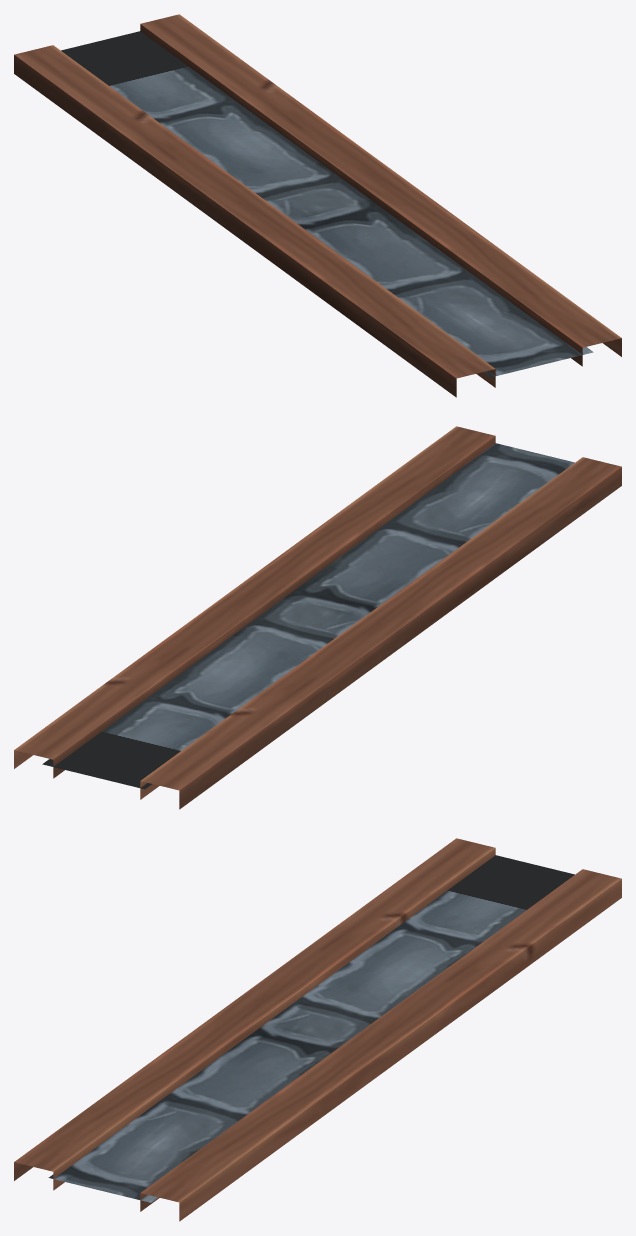
Rendered from floor_downside.fbx.
3 renders of one model, top to bottom at view 1: azimuth 30°, elevation 25°; view 2: azimuth 150°, elevation 25°; view 3: azimuth 330°, elevation 25°, orthographic.
Visible parts, largest first — view 1: floor_downside:Mesh; view 2: floor_downside:Mesh; view 3: floor_downside:Mesh.
Part boxes in pixels (x1,y1,x2,y2): floor_downside:Mesh: (14, 14, 621, 397); floor_downside:Mesh: (14, 426, 621, 809); floor_downside:Mesh: (14, 838, 621, 1221).
Size of the model in its own units: 0.7017 by 0.0776 by 3.25.
Materials: 1 (1 with a texture image).
